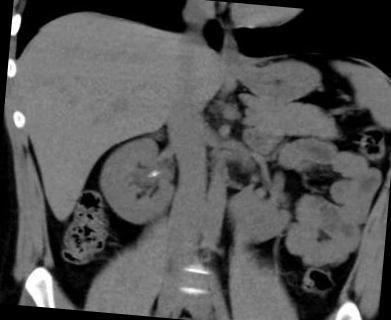Tas_Var: (150, 170, 158, 178)
